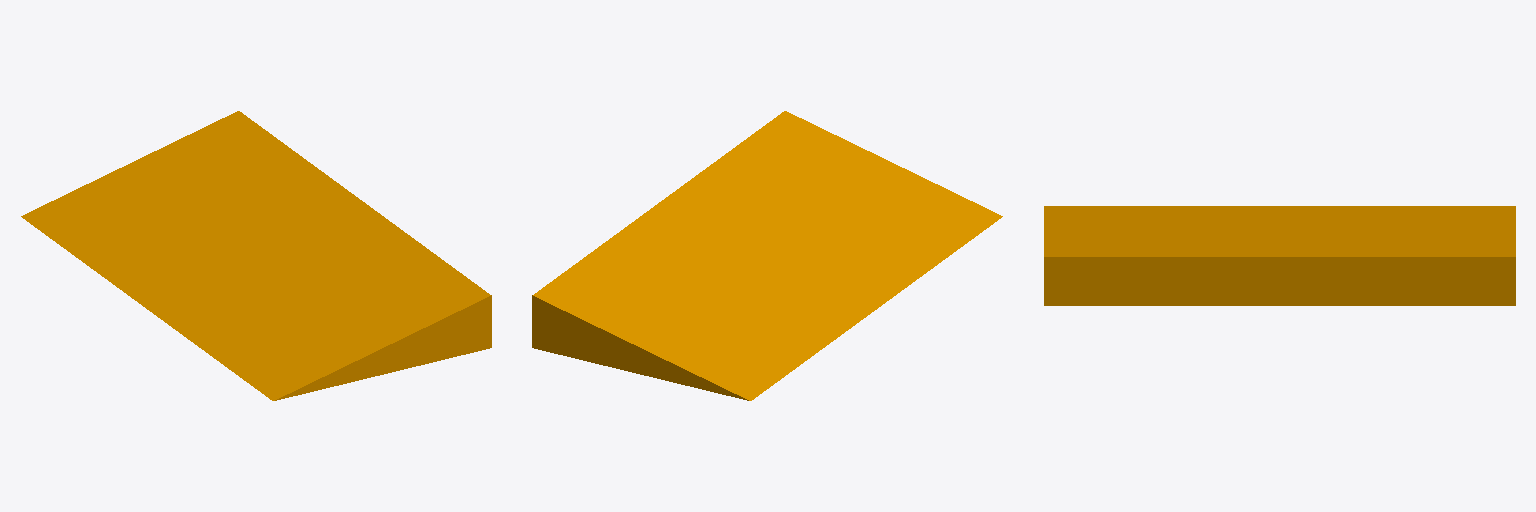
URDF robot description (wedge_13):
<?xml version="1.0" ?>
<robot name="wedge_13">
  <link name="wedge_13__link_3">
    <inertial>
      <mass value="1"/>
      <origin rpy="0      0     -1.5708" xyz="0 0 0"/>
      <inertia ixx="0.166667" ixy="0" ixz="0" iyy="0.166667" iyz="0" izz="0.166667"/>
    </inertial>
    <collision name="wedge_13__collision">
      <origin rpy="0      0     -1.5708" xyz="0 0 0"/>
      <geometry>
        <mesh filename="package://wedge_13/wedge_13.stl" scale="1 1 1"/>
      </geometry>
    </collision>
    <visual name="wedge_13__visual">
      <origin rpy="0      0     -1.5708" xyz="0 0 0"/>
      <geometry>
        <mesh filename="package://wedge_13/wedge_13.stl" scale="1 1 1"/>
      </geometry>
    </visual>
  </link>
</robot>

--- Facts derived from the render (not from the file) ---
The picture shows the robot from 3 angles, left to right: view 1: azimuth 30°, elevation 25°; view 2: azimuth 150°, elevation 25°; view 3: azimuth 270°, elevation 25°; orthographic projection.
Model wedge_13 with 1 links and 0 joints (none), rooted at wedge_13__link_3, posed all joints at 0.
Visible links, largest first — view 1: wedge_13__link_3; view 2: wedge_13__link_3; view 3: wedge_13__link_3.
Link boxes in pixels (x1,y1,x2,y2): wedge_13__link_3: [21, 111, 491, 400]; wedge_13__link_3: [532, 111, 1002, 400]; wedge_13__link_3: [1044, 206, 1515, 305].
Bounding box of the posed robot: 1.5 × 3.01 × 0.3459 m (x, y, z).
1 mesh visuals loaded from 1 distinct referenced files (1 binary STL).